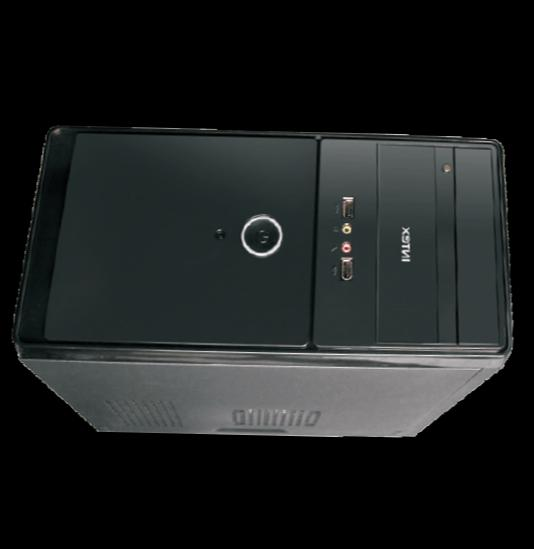pc: (1, 121, 523, 438)
